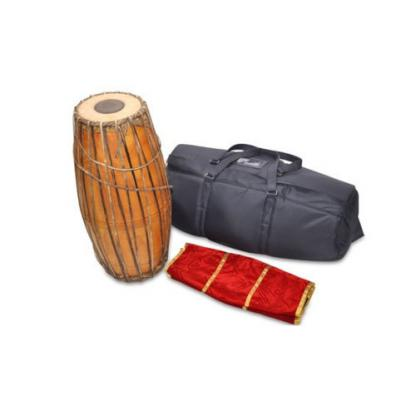Mridangam: (63, 72, 178, 289)
